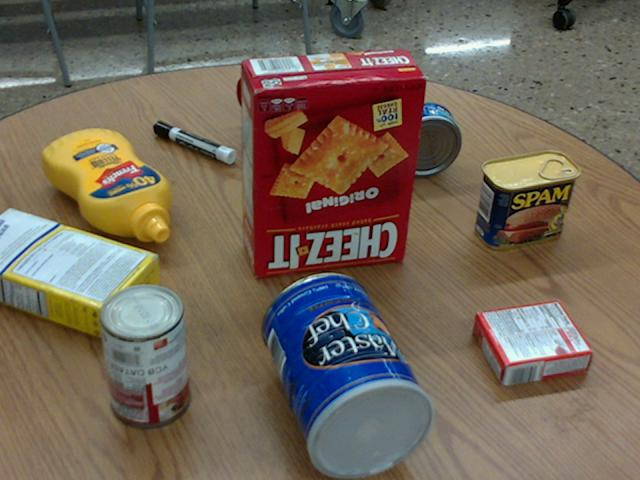cracker_box: (238, 46, 426, 278)
gelatin_box: (471, 298, 592, 384)
large_marker: (153, 121, 235, 163)
master_chef_can: (261, 272, 436, 479)
mug: (236, 58, 329, 146)
mustard_bottle: (42, 128, 170, 241)
potted_meat_can: (475, 149, 579, 250)
sugar_box: (0, 204, 159, 340)
tomato_soup_can: (99, 282, 191, 427)
tuna_fish_can: (385, 102, 460, 176)
